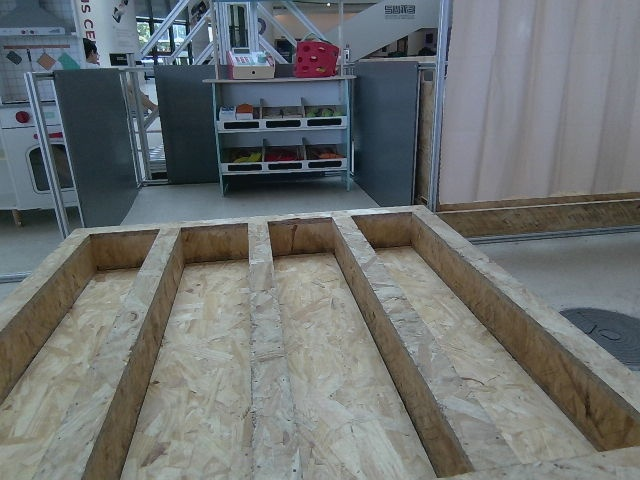curtain: (435, 0, 640, 230)
